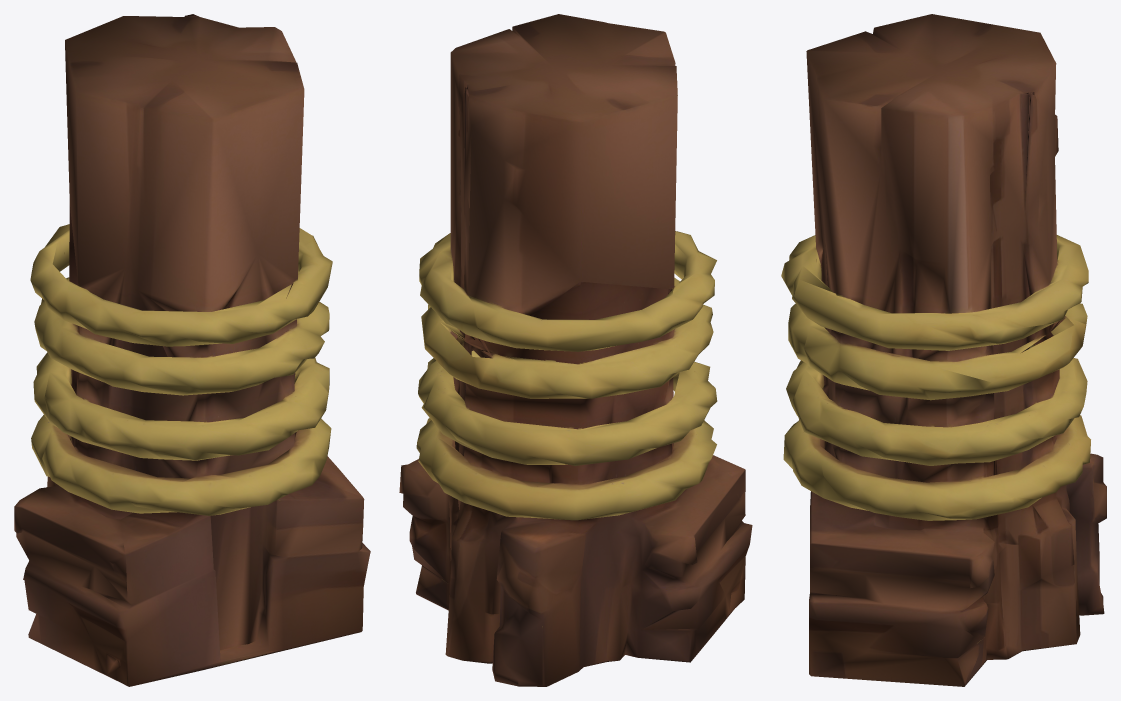
The model's file is mooring-post.glb.
The picture shows the model from 3 angles, left to right: view 1: azimuth 30°, elevation 25°; view 2: azimuth 150°, elevation 25°; view 3: azimuth 270°, elevation 25°; orthographic projection.
Visible parts, largest first — view 1: tripo_node_d6f2be10-8ab5-4741-954d-c17056606c0a; view 2: tripo_node_d6f2be10-8ab5-4741-954d-c17056606c0a; view 3: tripo_node_d6f2be10-8ab5-4741-954d-c17056606c0a.
Boxes of the visible parts, bbox=[...] form: tripo_node_d6f2be10-8ab5-4741-954d-c17056606c0a: bbox=[14, 14, 370, 686]; tripo_node_d6f2be10-8ab5-4741-954d-c17056606c0a: bbox=[399, 14, 752, 686]; tripo_node_d6f2be10-8ab5-4741-954d-c17056606c0a: bbox=[781, 14, 1106, 686].
Bounding box in the file's own units: 0.5577 × 0.9961 × 0.5284.
Materials: 1 (1 with a texture image).
